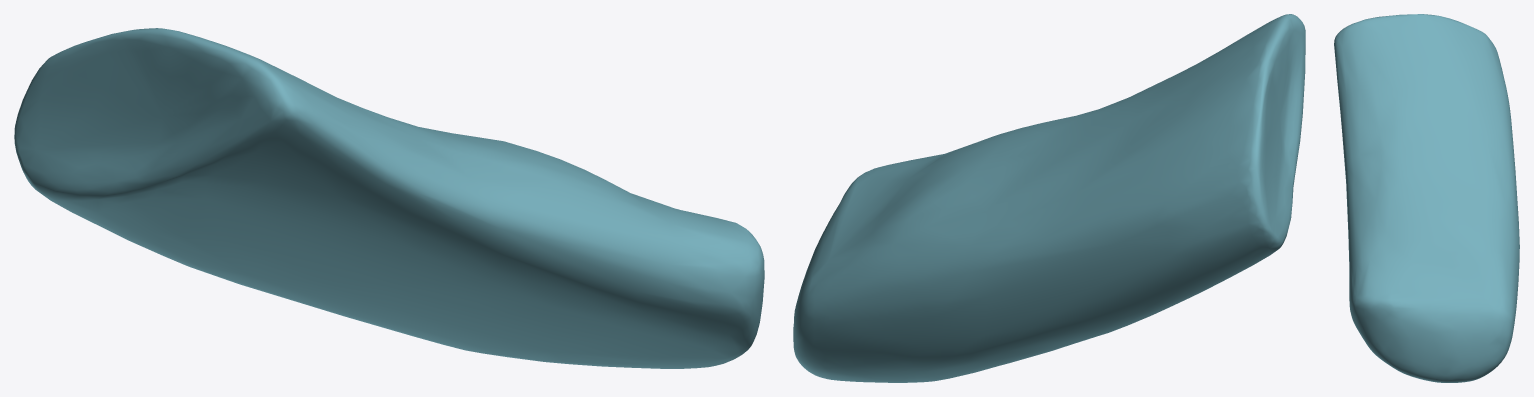
3 views of the same model, side by side, from view 1: azimuth 30°, elevation 25°; view 2: azimuth 150°, elevation 25°; view 3: azimuth 270°, elevation 25° (orthographic). The views are drawn at different scales.
Parts seen in each view (by area): view 1: 右侧第二肋软骨; view 2: 右侧第二肋软骨; view 3: 右侧第二肋软骨.
Boxes of the visible parts, bbox=[...] form: 右侧第二肋软骨: bbox=[14, 28, 764, 368]; 右侧第二肋软骨: bbox=[793, 14, 1305, 382]; 右侧第二肋软骨: bbox=[1334, 14, 1519, 382].
Bounding box in the file's own units: 0.0491 × 0.0358 × 0.0247.
